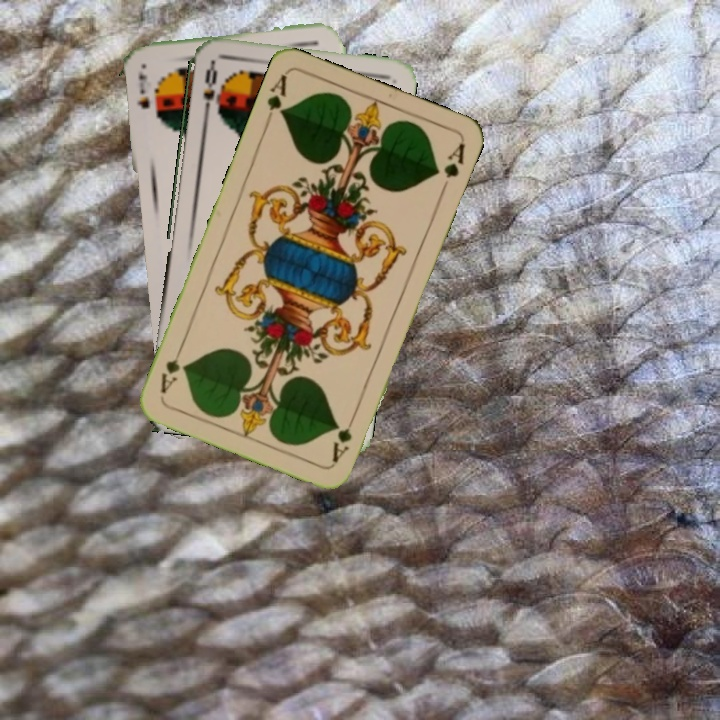GA: (327, 410, 359, 465), (261, 70, 290, 128)
SO: (199, 60, 220, 119), (133, 68, 152, 111)
